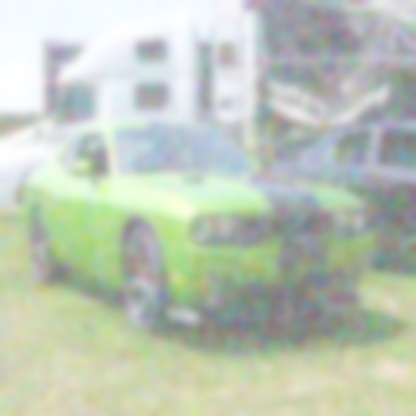Vehicle: (24, 123, 374, 337)
